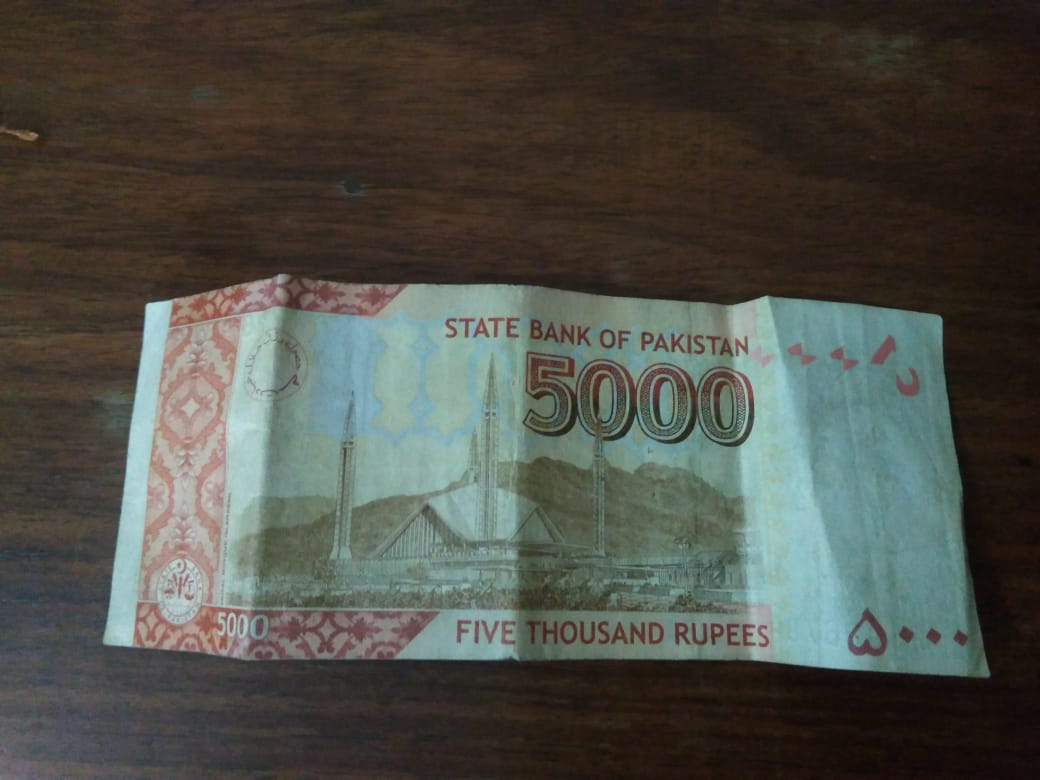5000 rupee: (120, 284, 996, 697)
